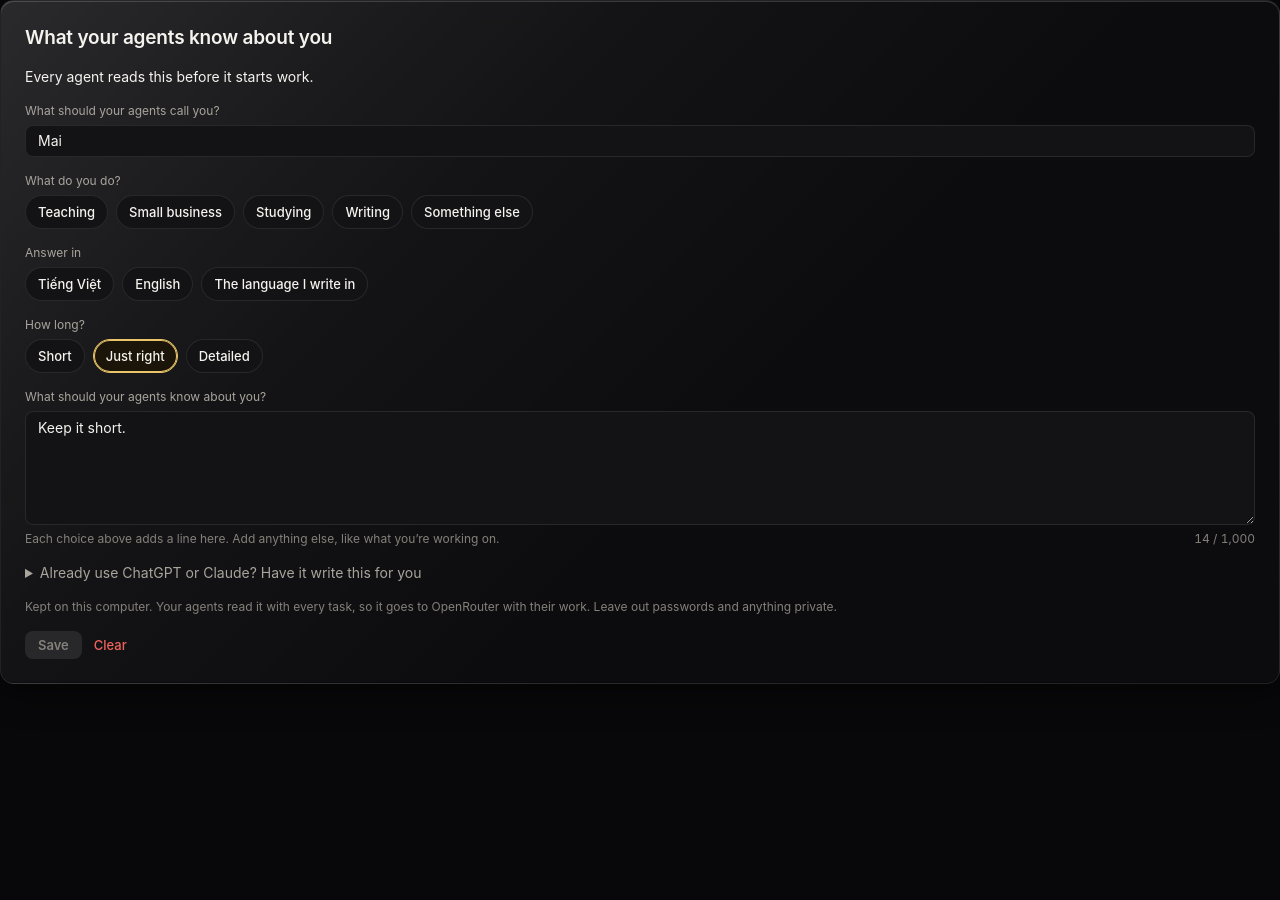
Test: About you › clears what agents know, and the card stays away after
expect the field showing "Mai" is shown: met, box [25, 125, 1255, 157]
Click the button "Clear": (110, 645) [94, 636, 127, 654]
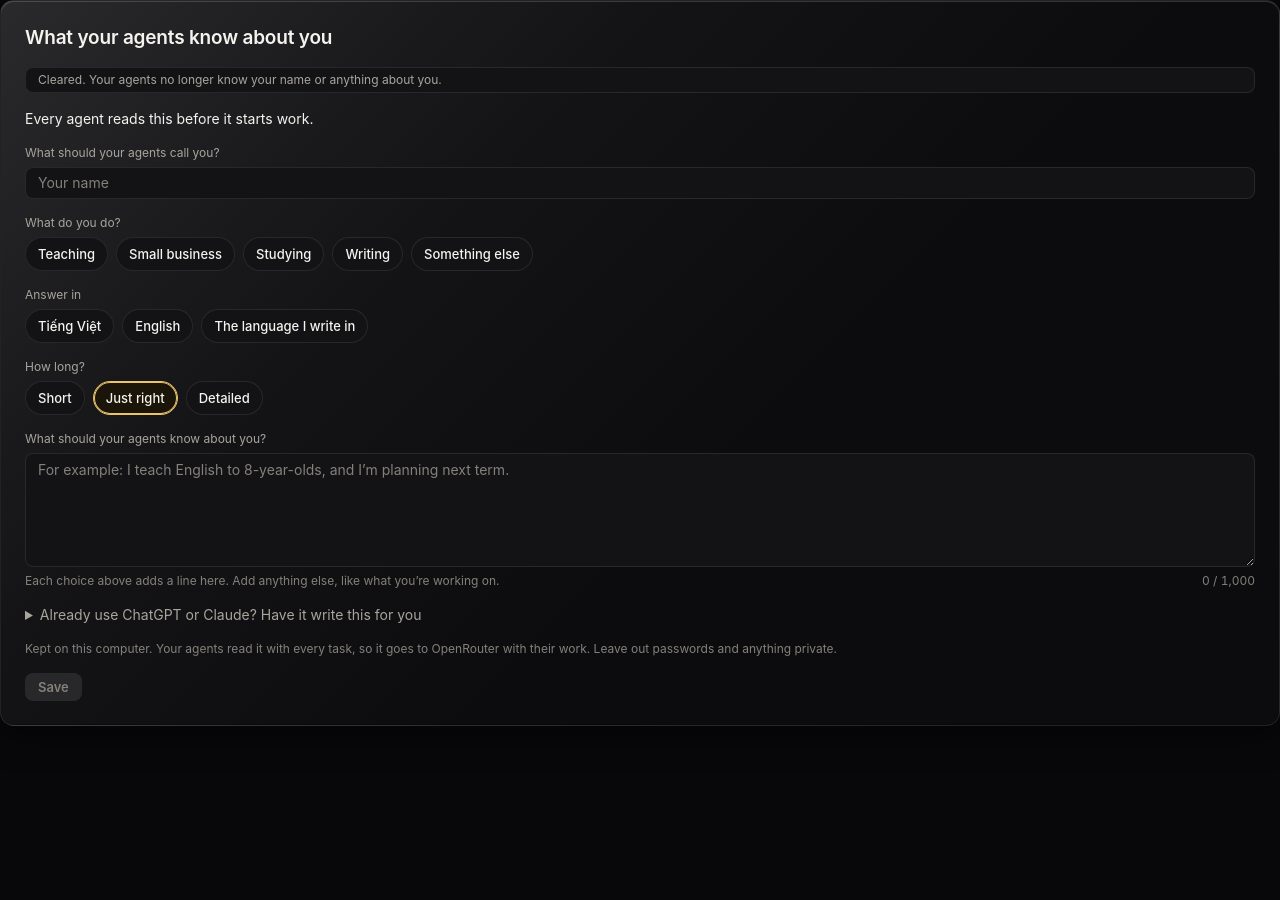
expect the message shows "Cleared.": met, box [38, 72, 442, 87]
expect the field labelled "What should your agents call you?" is empty: met, box [25, 167, 1255, 199]
